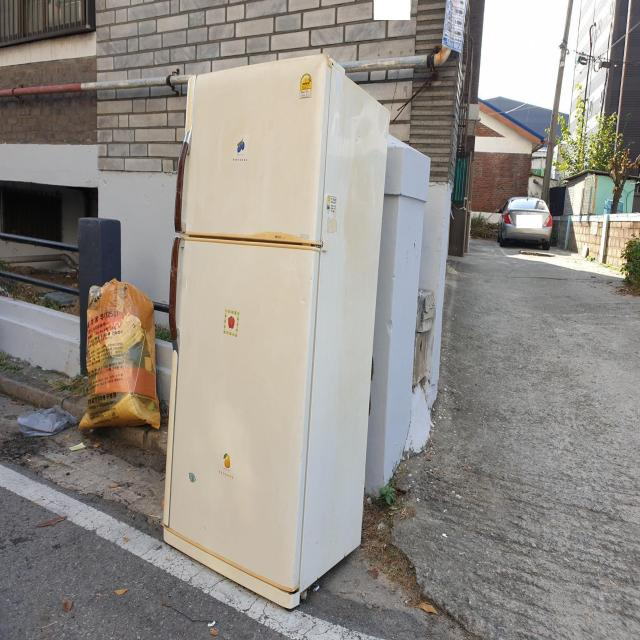refrigerator: (161, 51, 392, 609)
